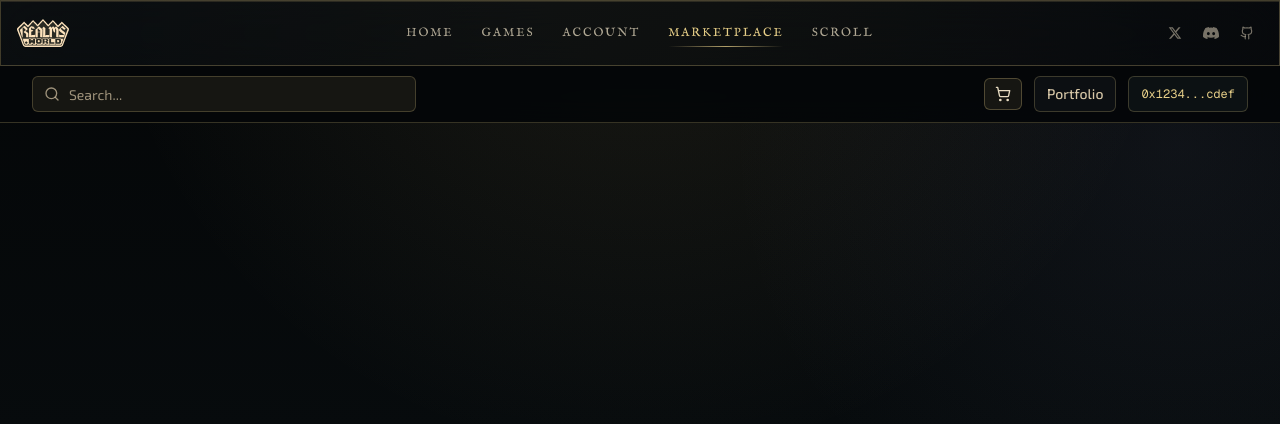
Test: Header › wallet_dropdown_contains_profile_and_disconnect
The image size is (1280, 424).
Click the button with test id "wallet-address". click: (1188, 94)
box: [1128,76,1248,112]
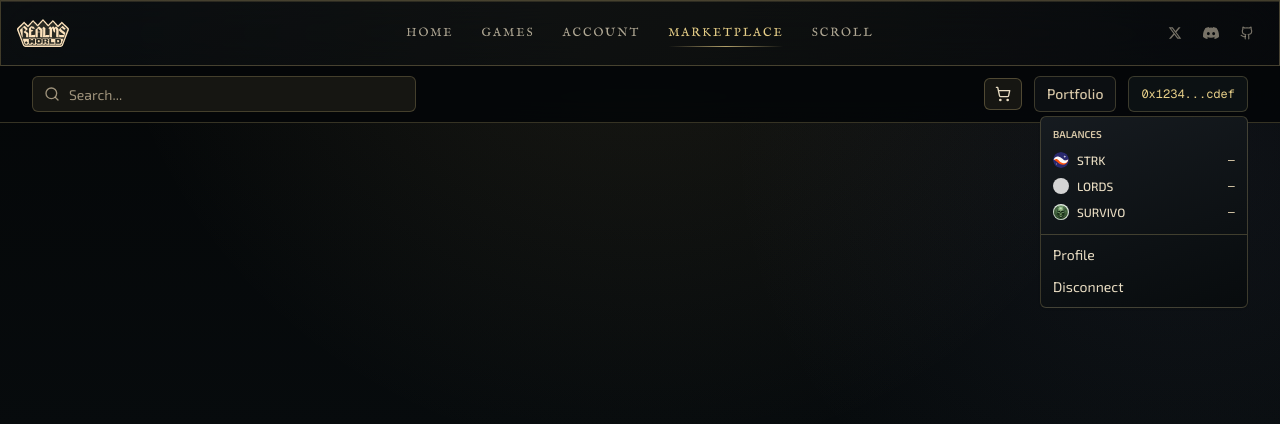
expect the menu item "Profile" is shown: met, box [1053,246,1095,263]
expect the menu item "Disconnect" is shown: met, box [1053,278,1124,295]
